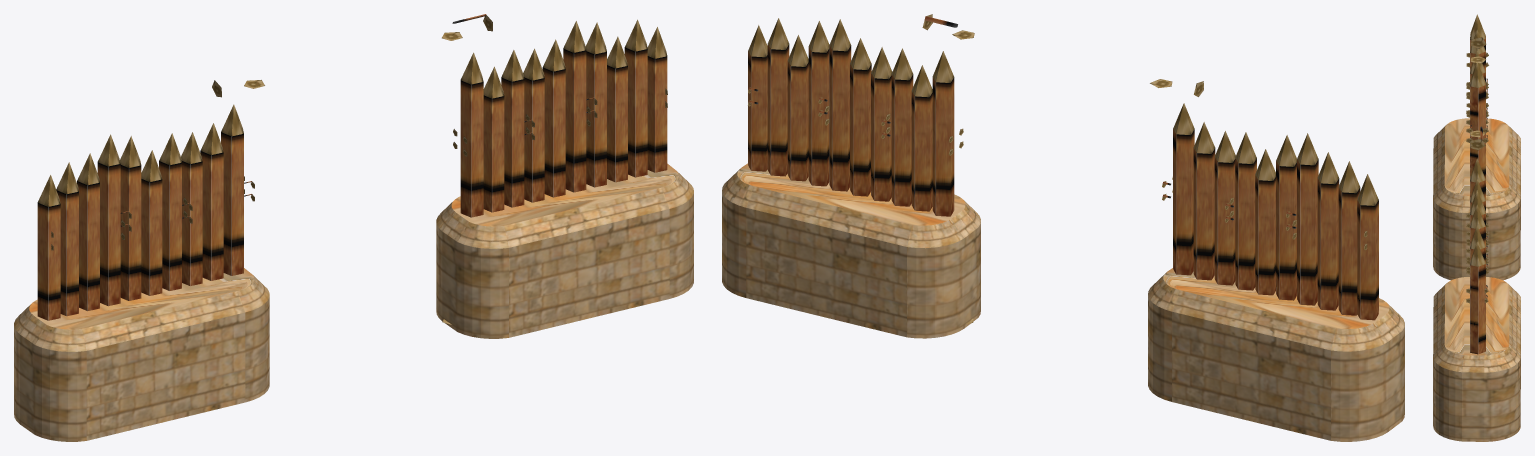
File: gate.dae
3 views of the same model, side by side, from view 1: azimuth 30°, elevation 25°; view 2: azimuth 150°, elevation 25°; view 3: azimuth 270°, elevation 25° (orthographic). The views are drawn at different scales.
Parts seen in each view (by area): view 1: Plano.026; view 2: Plano.026; view 3: Plano.026.
Boxes of the visible parts, bbox=[...] form: Plano.026: bbox=[14, 14, 693, 441]; Plano.026: bbox=[722, 14, 1404, 441]; Plano.026: bbox=[1433, 14, 1520, 441].
Size of the model in its own units: 46.08 by 6.91 by 20.02.
